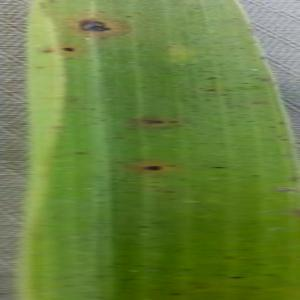0 BrownSpot: (75, 14, 112, 38), (134, 112, 167, 132), (136, 159, 166, 176), (271, 184, 300, 195), (284, 203, 300, 220), (227, 271, 249, 282), (49, 121, 71, 132), (59, 43, 79, 55), (218, 251, 238, 263), (155, 187, 179, 197), (39, 45, 57, 58), (187, 282, 210, 292), (119, 275, 140, 285), (106, 133, 127, 143), (92, 272, 114, 281), (208, 162, 227, 172), (65, 93, 82, 104), (132, 222, 152, 231), (235, 79, 252, 88), (166, 290, 185, 298), (253, 259, 268, 269), (250, 98, 268, 106), (72, 149, 89, 157), (262, 271, 279, 279), (165, 118, 180, 127), (203, 74, 218, 83), (256, 53, 269, 63), (284, 174, 300, 182), (176, 175, 190, 184), (266, 123, 279, 132), (89, 121, 102, 130), (136, 83, 149, 92), (179, 266, 194, 273), (34, 64, 49, 71), (249, 171, 262, 179), (259, 77, 272, 85), (163, 162, 177, 169), (88, 73, 100, 81), (227, 122, 240, 129), (204, 87, 216, 94), (277, 137, 289, 144), (203, 97, 213, 105), (277, 119, 288, 126), (180, 98, 192, 104), (124, 13, 134, 20), (87, 106, 97, 113), (223, 87, 234, 93), (244, 119, 257, 124), (198, 85, 206, 92), (239, 46, 246, 51)
